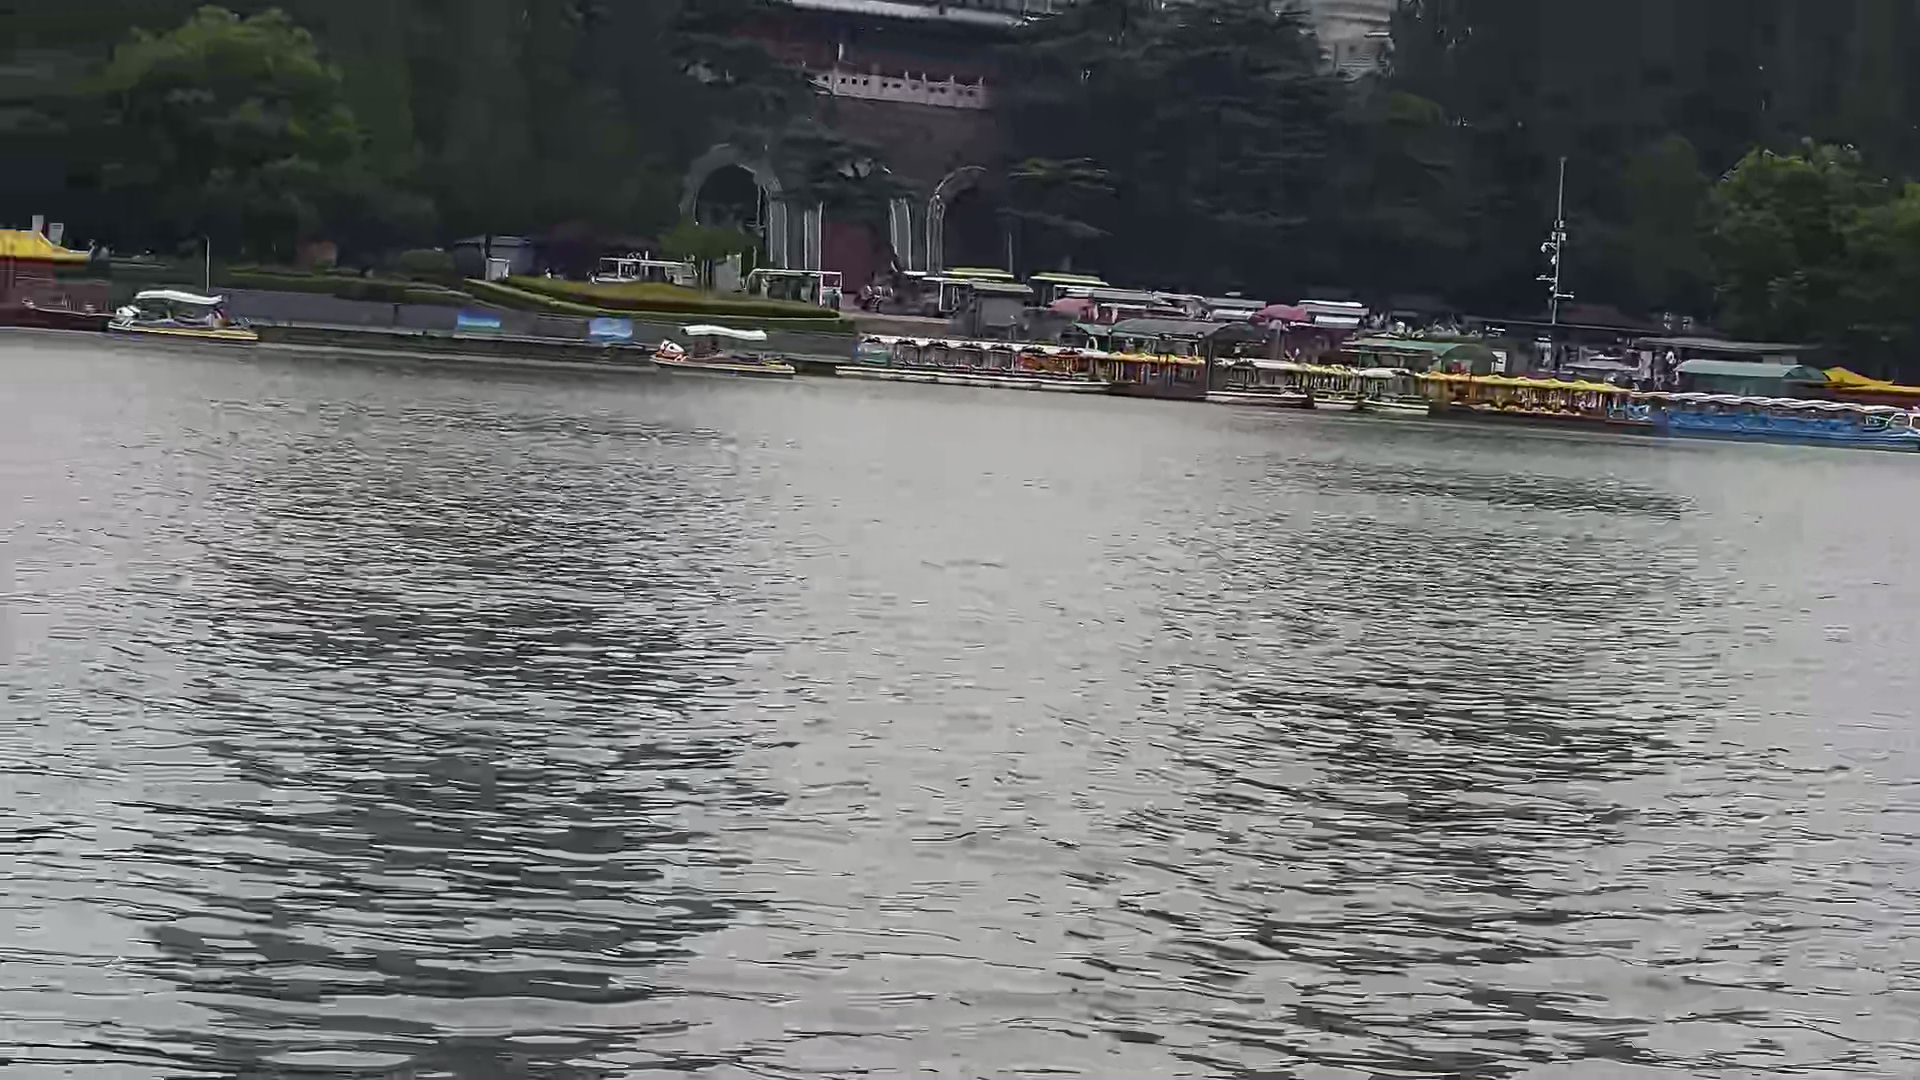boat: (647, 324, 806, 386), (102, 287, 260, 348)
harbor: (847, 270, 1917, 454)
